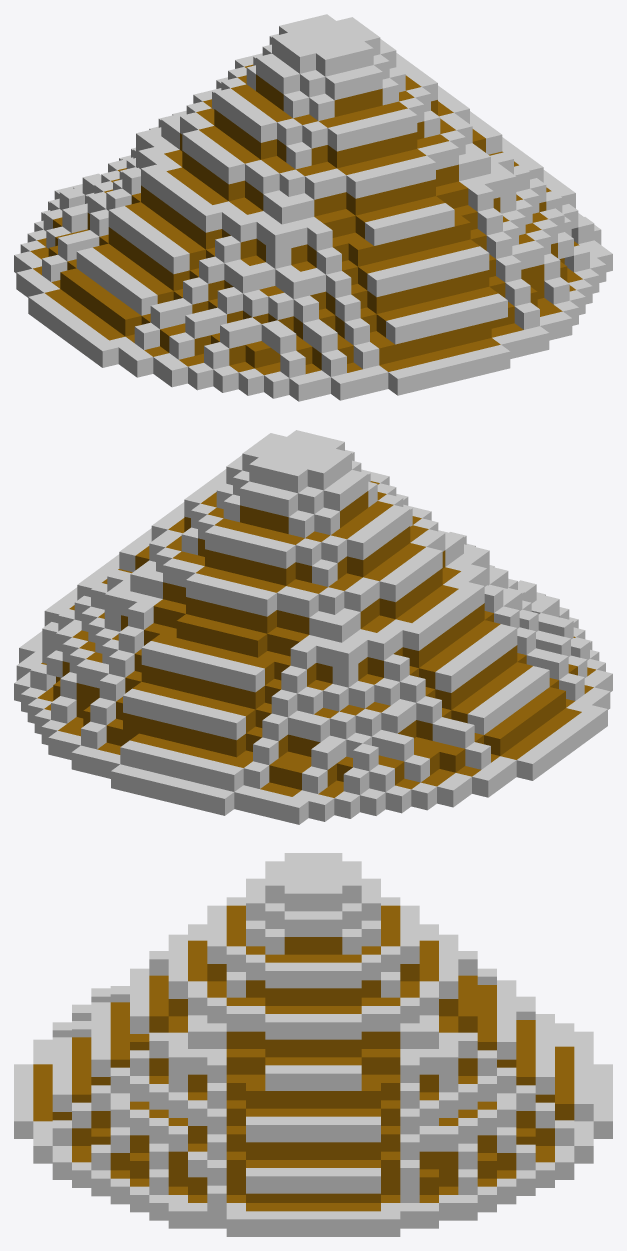
The model's file is AbelNid.glb.
The picture shows the model from 3 angles, top to bottom: view 1: azimuth 30°, elevation 25°; view 2: azimuth 150°, elevation 25°; view 3: azimuth 270°, elevation 25°; orthographic projection. The views are drawn at different scales.
Parts seen in each view (by area): view 1: AbelNid; view 2: AbelNid; view 3: AbelNid.
Boxes of the visible parts, bbox=[...] form: AbelNid: bbox=[14, 14, 612, 401]; AbelNid: bbox=[14, 430, 612, 824]; AbelNid: bbox=[14, 853, 612, 1236].
Size of the model in its own units: 31 by 14 by 31.
Materials: 1 (1 with a texture image).
